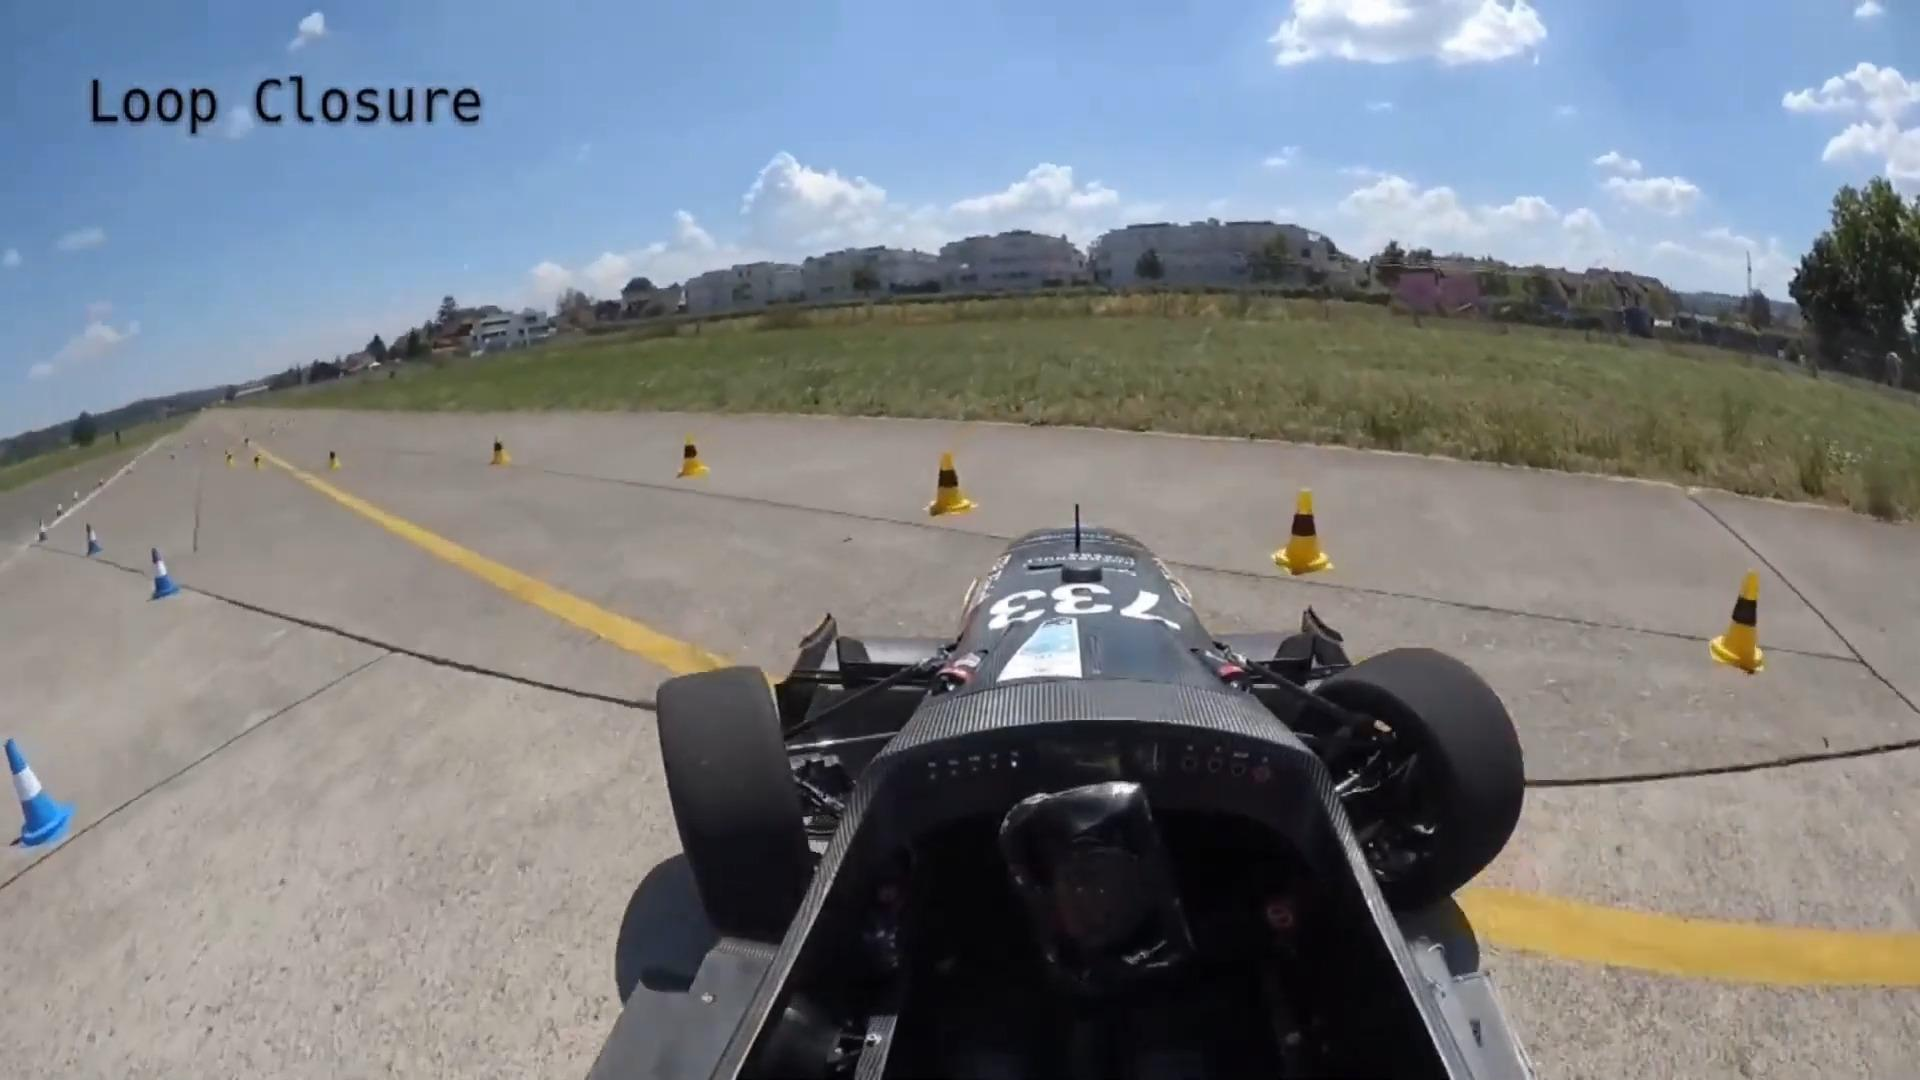blue_cone: (4, 737, 77, 848), (151, 547, 185, 603)
yellow_cone: (1711, 567, 1767, 673), (1272, 490, 1334, 575), (926, 450, 977, 518), (677, 432, 710, 480)
